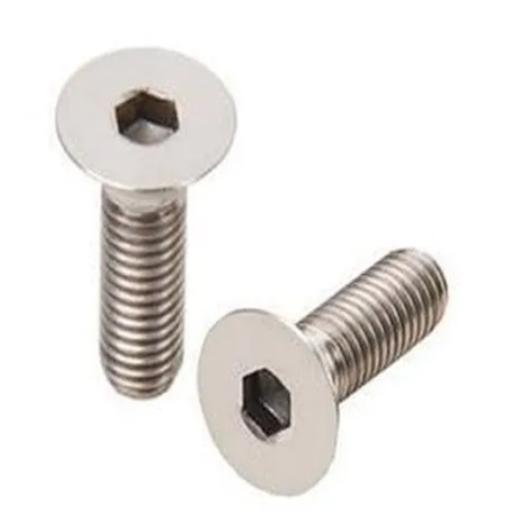Hex-Allen: (55, 42, 238, 190), (198, 310, 338, 498)
